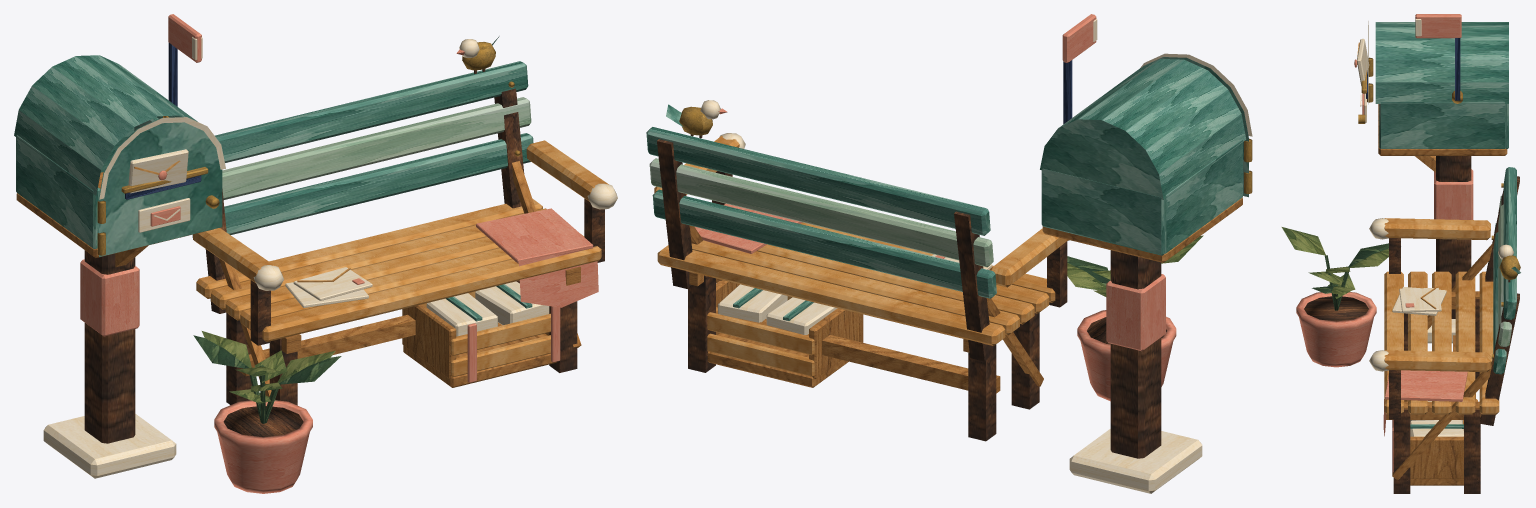
The model's file is bk_project_candidate_mailbox_bench_editable_parts.glb.
3 renders of one model, left to right at view 1: azimuth 30°, elevation 25°; view 2: azimuth 150°, elevation 25°; view 3: azimuth 270°, elevation 25°, orthographic. The views are drawn at different scales.
Visible parts, largest first — view 1: 018 Broad painted bench back slat 3, 017 Broad painted bench back slat 2, 016 Broad painted bench back slat 1, 055 Operable mailbox broad front door, 007 Usable bench seat slat 1, 039 Mailbox substantial timber post, 089 Pink ground herb planter, 044 Mailbox left side shell, 038 Mailbox broad stone-colored shoe, 011 Usable bench seat slat 5, 087 Coral seat corner cloth, 040 Mailbox painted post wrap (+35 smaller); view 2: 018 Broad painted bench back slat 3, 016 Broad painted bench back slat 1, 017 Broad painted bench back slat 2, 011 Usable bench seat slat 5, 046 Mailbox rear wall, 039 Mailbox substantial timber post, 056 Mailbox rear curved cap, 038 Mailbox broad stone-colored shoe, 044 Mailbox left side shell, 010 Usable bench seat slat 4, 040 Mailbox painted post wrap, 006 Bench long low stretcher (+27 smaller); view 3: 045 Mailbox right side shell, 089 Pink ground herb planter, 048 Curved mailbox roof strip 2, 047 Curved mailbox roof strip 1, 049 Curved mailbox roof strip 3, 039 Mailbox substantial timber post, 023 Bench rounded armrest 2, 020 Bench rounded armrest 1, 010 Usable bench seat slat 4, 027 Postal crate end board 2, 087 Coral seat corner cloth, 018 Broad painted bench back slat 3 (+34 smaller).
Boxes of the visible parts, x1,y1,x2,y2 form: 018 Broad painted bench back slat 3: [215, 61, 528, 162]; 017 Broad painted bench back slat 2: [222, 97, 531, 199]; 016 Broad painted bench back slat 1: [192, 133, 533, 237]; 055 Operable mailbox broad front door: [99, 118, 222, 256]; 007 Usable bench seat slat 1: [262, 246, 601, 341]; 039 Mailbox substantial timber post: [84, 250, 135, 443]; 089 Pink ground herb planter: [214, 400, 312, 493]; 044 Mailbox left side shell: [16, 135, 100, 248]; 038 Mailbox broad stone-colored shoe: [43, 414, 176, 478]; 011 Usable bench seat slat 5: [196, 198, 542, 298]; 087 Coral seat corner cloth: [476, 208, 593, 263]; 040 Mailbox painted post wrap: [80, 259, 139, 336]; 018 Broad painted bench back slat 3: [646, 127, 990, 235]; 016 Broad painted bench back slat 1: [652, 189, 996, 298]; 017 Broad painted bench back slat 2: [649, 158, 993, 267]; 011 Usable bench seat slat 5: [657, 245, 1005, 345]; 046 Mailbox rear wall: [1041, 168, 1165, 255]; 039 Mailbox substantial timber post: [1110, 250, 1161, 458]; 056 Mailbox rear curved cap: [1040, 119, 1163, 199]; 038 Mailbox broad stone-colored shoe: [1069, 429, 1202, 493]; 044 Mailbox left side shell: [1165, 139, 1242, 253]; 010 Usable bench seat slat 4: [691, 240, 1019, 335]; 040 Mailbox painted post wrap: [1106, 274, 1165, 351]; 006 Bench long low stretcher: [716, 307, 1000, 393]; 045 Mailbox right side shell: [1379, 102, 1505, 148]; 089 Pink ground herb planter: [1296, 292, 1376, 367]; 048 Curved mailbox roof strip 2: [1375, 60, 1508, 82]; 047 Curved mailbox roof strip 1: [1375, 82, 1508, 103]; 049 Curved mailbox roof strip 3: [1375, 40, 1508, 59]; 039 Mailbox substantial timber post: [1436, 156, 1471, 318]; 023 Bench rounded armrest 2: [1384, 350, 1490, 372]; 020 Bench rounded armrest 1: [1384, 218, 1490, 240]; 010 Usable bench seat slat 4: [1455, 271, 1475, 414]; 027 Postal crate end board 2: [1410, 436, 1463, 478]; 087 Coral seat corner cloth: [1385, 370, 1467, 401]; 018 Broad painted bench back slat 3: [1503, 167, 1516, 319].
Size of the model in its own units: 2.52 by 1.92 by 1.23.
3 materials, 3 textured.
